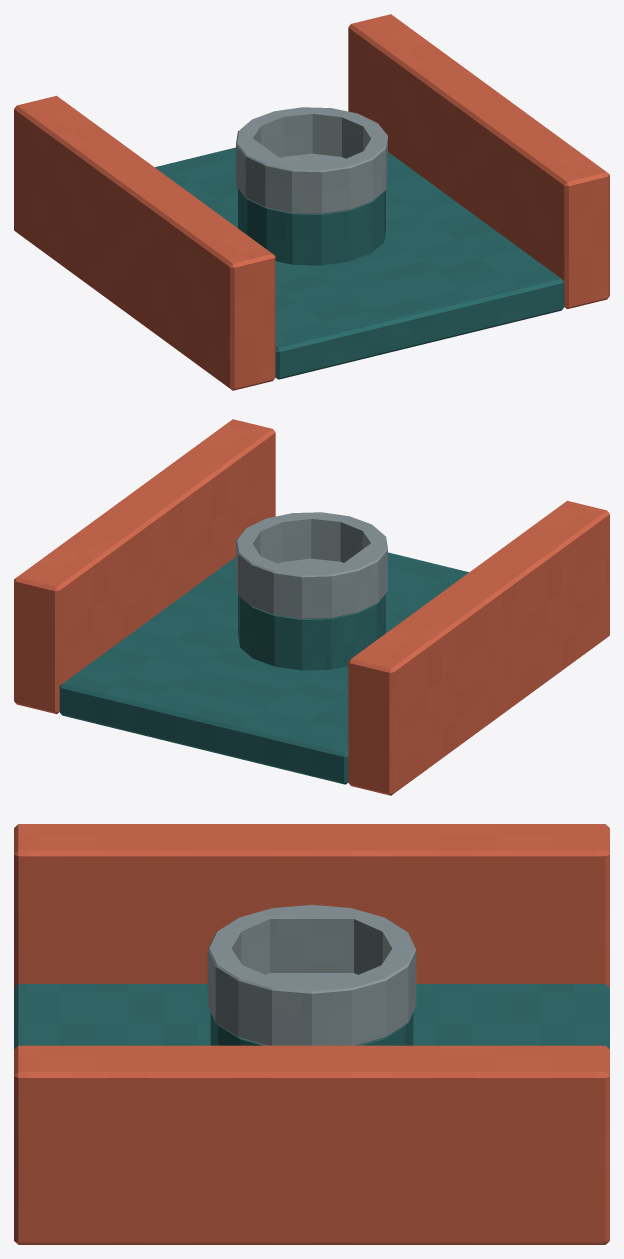
Rendered from cradle-lod-1.glb.
3 renders of one model, top to bottom at view 1: azimuth 30°, elevation 25°; view 2: azimuth 150°, elevation 25°; view 3: azimuth 270°, elevation 25°, orthographic. The views are drawn at different scales.
Visible parts, largest first — view 1: cradle_lod_1; view 2: cradle_lod_1; view 3: cradle_lod_1.
Boxes of the visible parts, x1,y1,x2,y2 form: cradle_lod_1: [14, 14, 609, 390]; cradle_lod_1: [14, 419, 609, 795]; cradle_lod_1: [14, 824, 609, 1244].
Bounding box in the file's own units: 2 × 0.64 × 2.
1 material, 1 textured.
